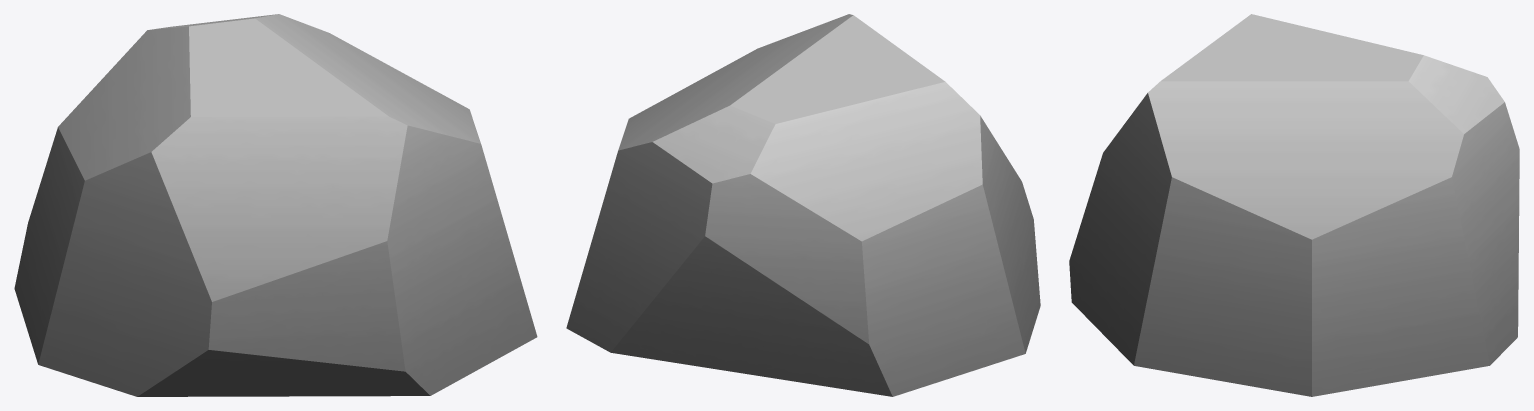
The model's file is Rock2.fbx.
3 views of the same model, side by side, from view 1: azimuth 30°, elevation 25°; view 2: azimuth 150°, elevation 25°; view 3: azimuth 270°, elevation 25° (orthographic). The views are drawn at different scales.
Parts seen in each view (by area): view 1: big_rock_04.001; view 2: big_rock_04.001; view 3: big_rock_04.001.
Boxes of the visible parts, x1,y1,x2,y2 form: big_rock_04.001: (14, 14, 537, 396); big_rock_04.001: (566, 14, 1040, 396); big_rock_04.001: (1069, 14, 1519, 396).
Bounding box in the file's own units: 200 × 98.19 × 179.
